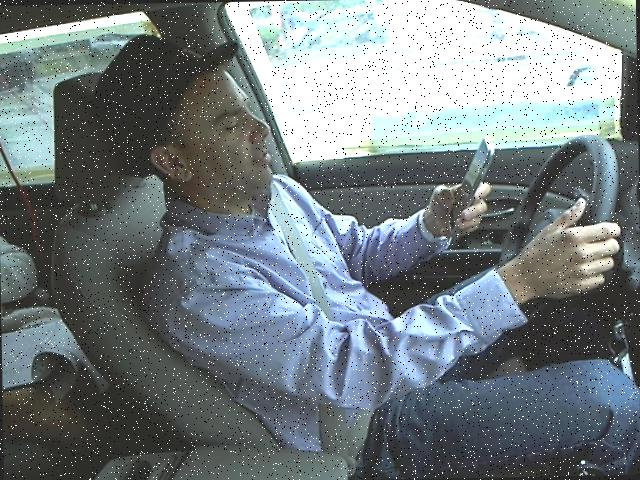c1 - Texting: (76, 16, 631, 409)
